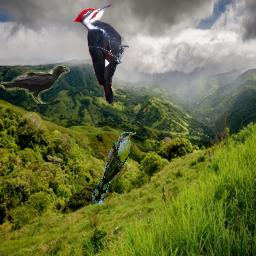Crow: (0, 65, 70, 104)
Cuckoo: (92, 132, 136, 204)
Woodpecker: (73, 4, 129, 105)
